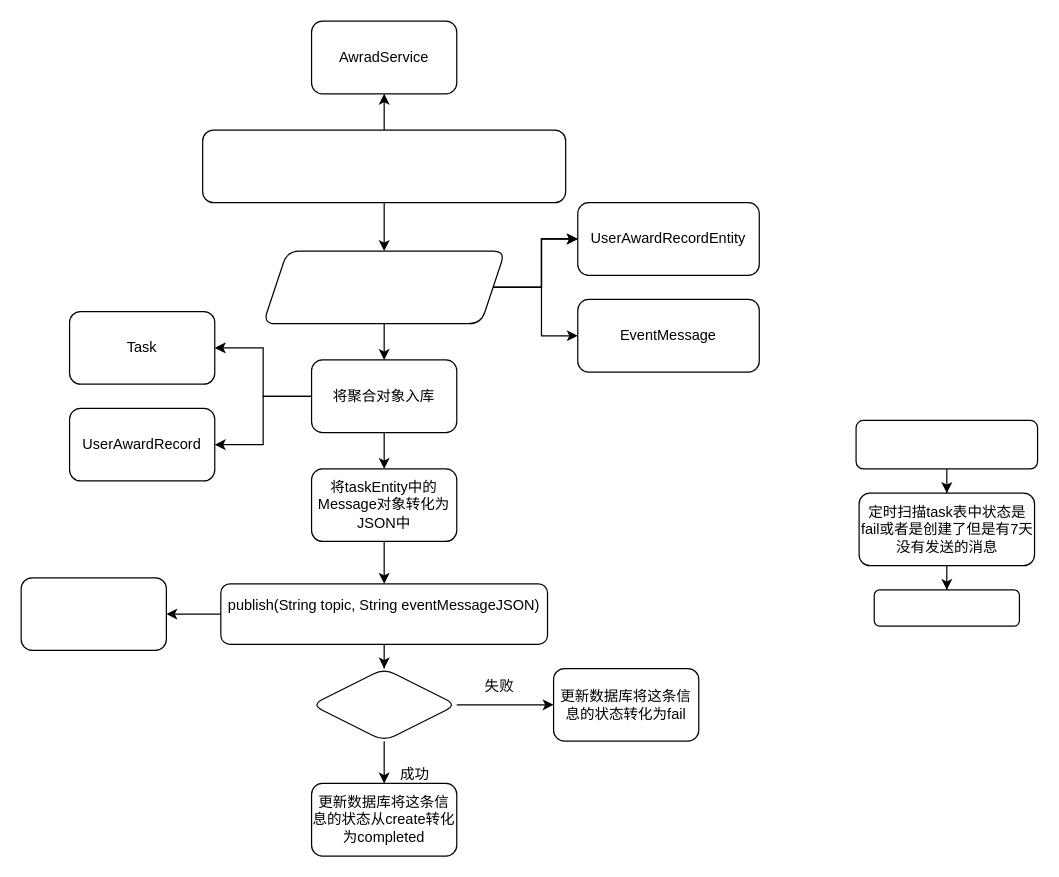
The diagram is 1059 pixels wide and 877 high, and some of its shapes have lost their labels. Here are the shapes that lost their labels. From the top down, the centre of each, then its label:
At (x=383, y=166): "saveAwardRecord(UserAwardRecordEntity)".
At (x=383, y=287): "构建聚合对象 UserAwardRecordAggregate".
At (x=946, y=444): "SendMessageTaskJob".
At (x=93, y=613): "MQ EventPulisher".
At (x=946, y=607): "将消息发送出去".
At (x=383, y=704): "发送MQ消息".
